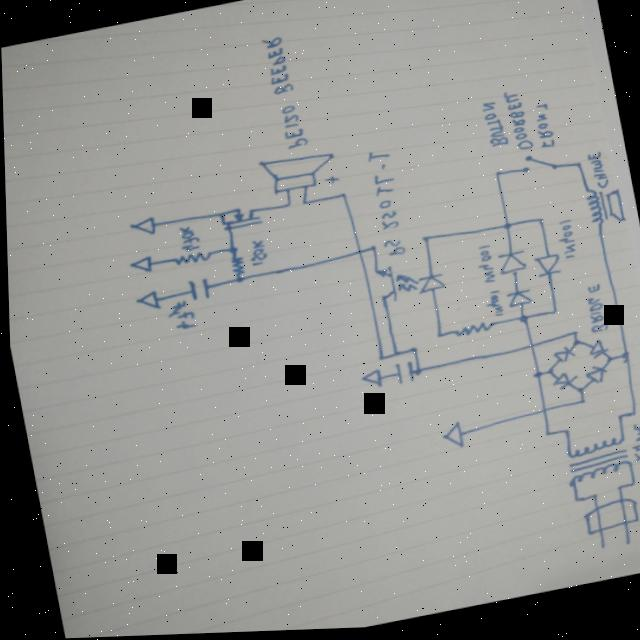capacitor: (184, 274, 212, 304), (391, 361, 415, 389)
crossover: (523, 343, 537, 355), (535, 409, 548, 421), (352, 249, 364, 259)
diode: (494, 251, 528, 279), (530, 255, 563, 282), (548, 373, 579, 396), (580, 366, 608, 391), (503, 290, 533, 311), (584, 341, 609, 364), (549, 348, 575, 369)
ground: (436, 423, 464, 455), (127, 216, 157, 239), (133, 289, 160, 314), (355, 369, 381, 394), (126, 255, 154, 276)
junction: (616, 353, 631, 367), (514, 315, 529, 328), (225, 243, 239, 256), (528, 372, 542, 384), (499, 223, 512, 235), (568, 341, 582, 352), (572, 388, 585, 399), (412, 367, 423, 379), (548, 310, 559, 320), (390, 352, 402, 361), (299, 199, 311, 208), (374, 355, 385, 364), (408, 347, 419, 356), (367, 245, 378, 254), (420, 237, 431, 246), (567, 332, 578, 341), (233, 276, 244, 285), (336, 193, 347, 202), (544, 369, 553, 380), (627, 413, 637, 422), (283, 202, 292, 211), (535, 220, 545, 228), (432, 334, 443, 341), (576, 401, 585, 409), (541, 434, 551, 441), (569, 499, 579, 506), (560, 432, 569, 439), (588, 496, 597, 503), (574, 165, 583, 172), (493, 174, 502, 181), (603, 359, 612, 366), (627, 484, 635, 491), (612, 418, 621, 424), (612, 489, 621, 495)
resistor: (449, 321, 496, 343), (168, 248, 213, 269), (226, 255, 246, 278)
switch: (518, 152, 559, 181)
terminal: (620, 543, 631, 552), (595, 548, 606, 557)
text: (259, 33, 310, 154), (363, 148, 409, 262), (501, 90, 534, 156), (577, 281, 609, 339), (528, 98, 559, 155), (478, 101, 510, 153), (551, 219, 581, 265), (164, 298, 197, 336), (585, 153, 611, 195), (472, 246, 497, 288), (244, 237, 271, 270), (174, 224, 202, 254), (623, 421, 640, 468), (482, 291, 504, 322), (635, 488, 640, 542)
transformer: (557, 435, 632, 491)
transistor: (213, 203, 265, 236)
